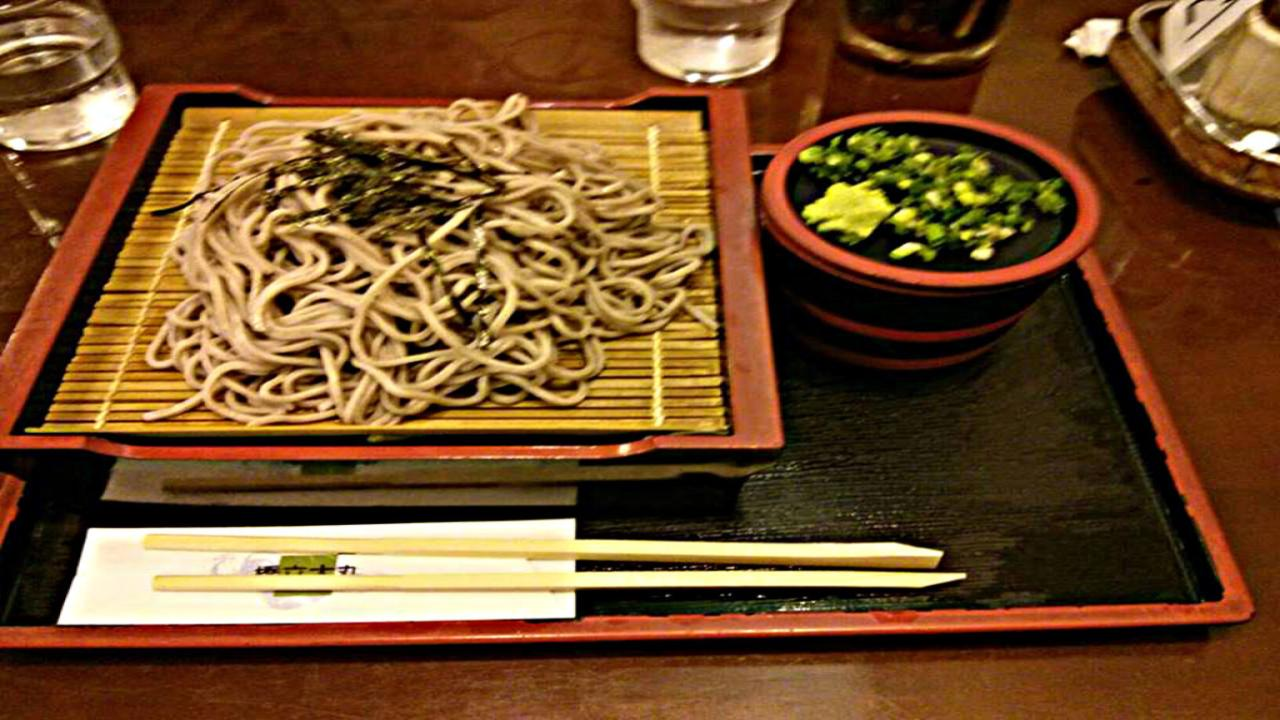chopstick: (147, 531, 967, 590)
